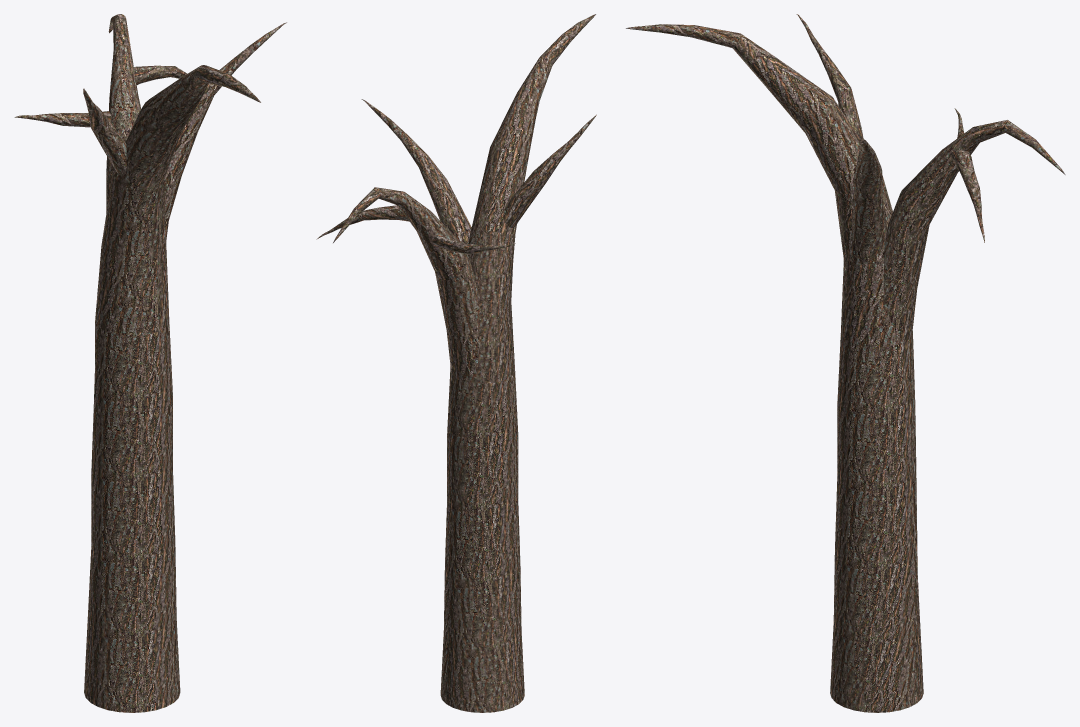
File: Tree 1.fbx
The picture shows the model from 3 angles, left to right: view 1: azimuth 30°, elevation 25°; view 2: azimuth 150°, elevation 25°; view 3: azimuth 270°, elevation 25°; orthographic projection. The views are drawn at different scales.
Visible parts, largest first — view 1: Tree; view 2: Tree; view 3: Tree.
Boxes of the visible parts, <box> form: Tree: <box>14,14,286,712</box>; Tree: <box>316,14,596,712</box>; Tree: <box>626,14,1065,712</box>.
Size of the model in its own units: 5.67 by 15.76 by 9.42.
